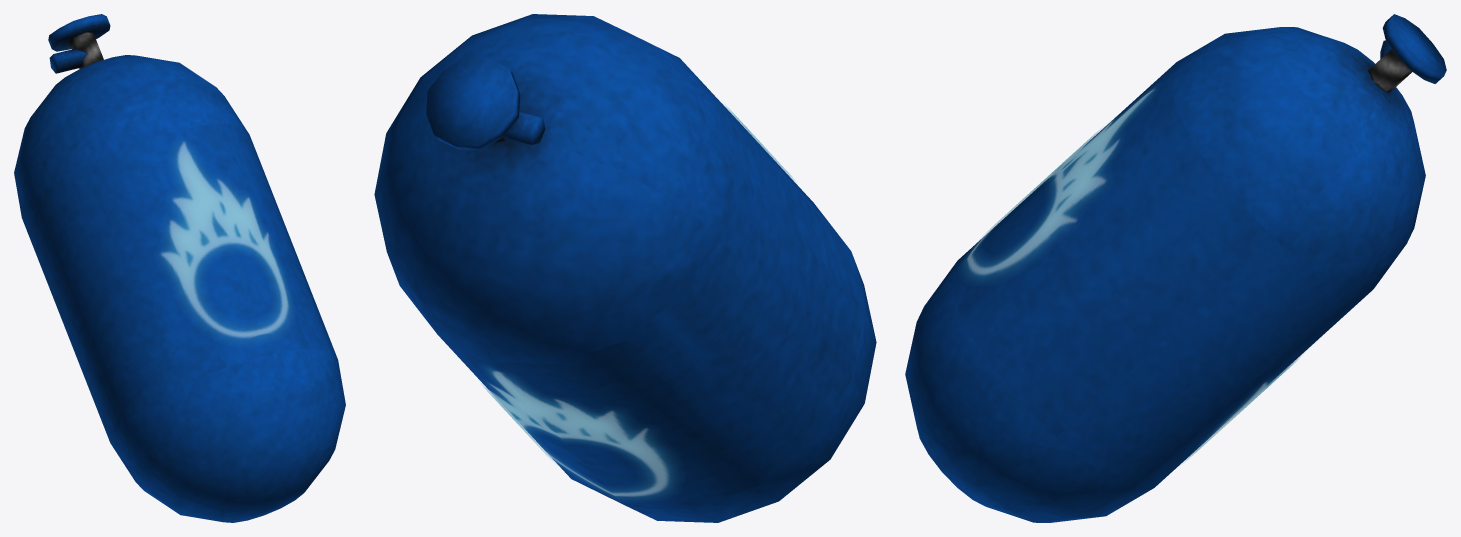
The model's file is small-nitro.glb.
3 renders of one model, left to right at view 1: azimuth 30°, elevation 25°; view 2: azimuth 150°, elevation 25°; view 3: azimuth 270°, elevation 25°, orthographic. The views are drawn at different scales.
Bounding box in the file's own units: 0.4003 × 0.719 × 0.719.
2 materials, 2 textured.
